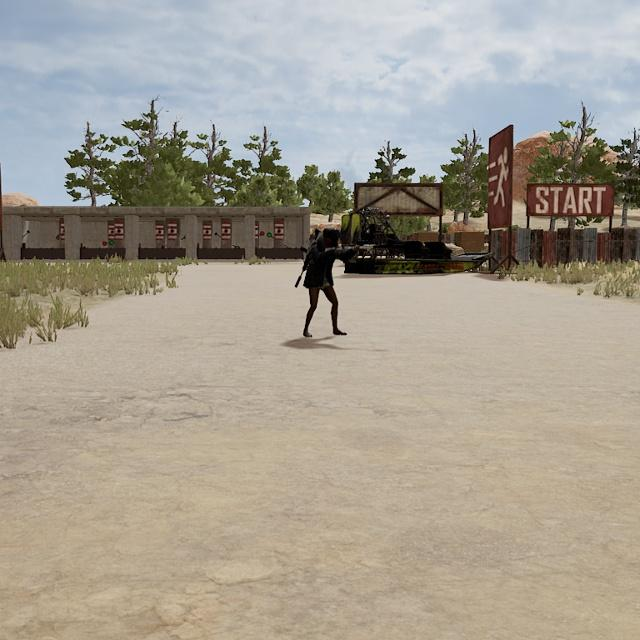head: (321, 226, 341, 249)
people: (302, 225, 348, 337)
